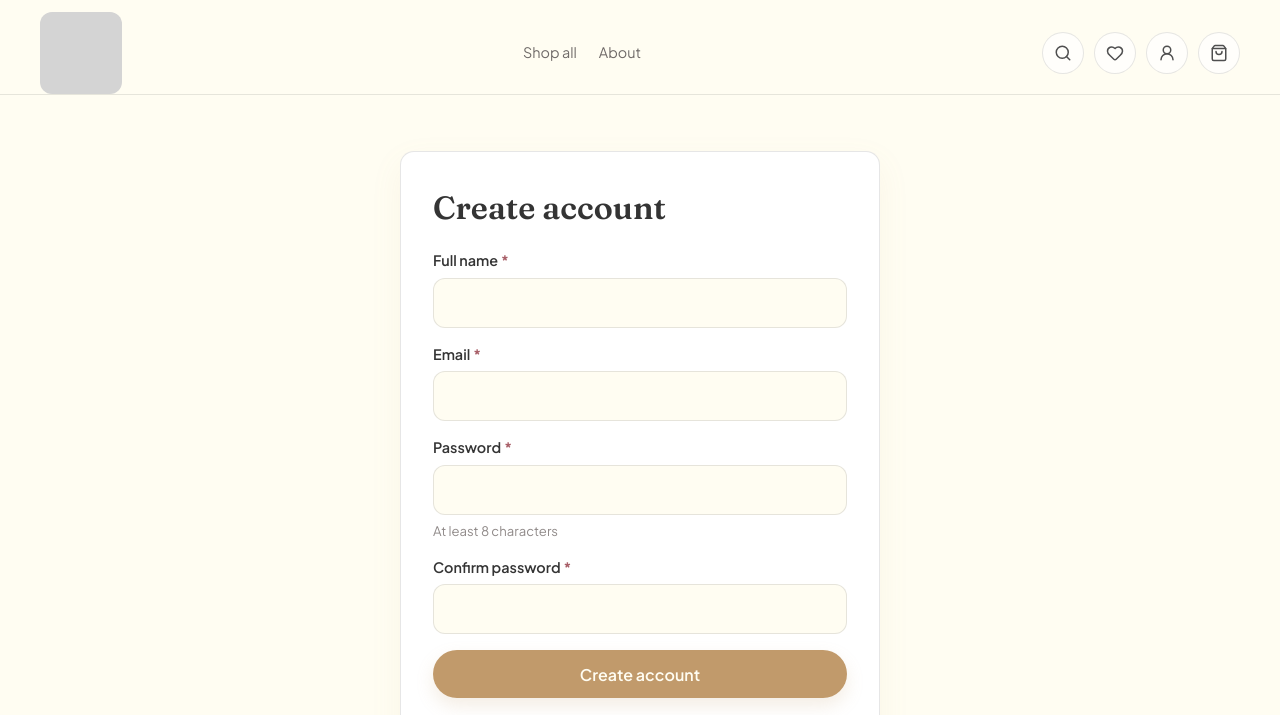
Test: registration and password reset › validates registration before submitting
Click the button "Create account". click: [640, 674]
box: x1=433 y1=650 x2=847 y2=698
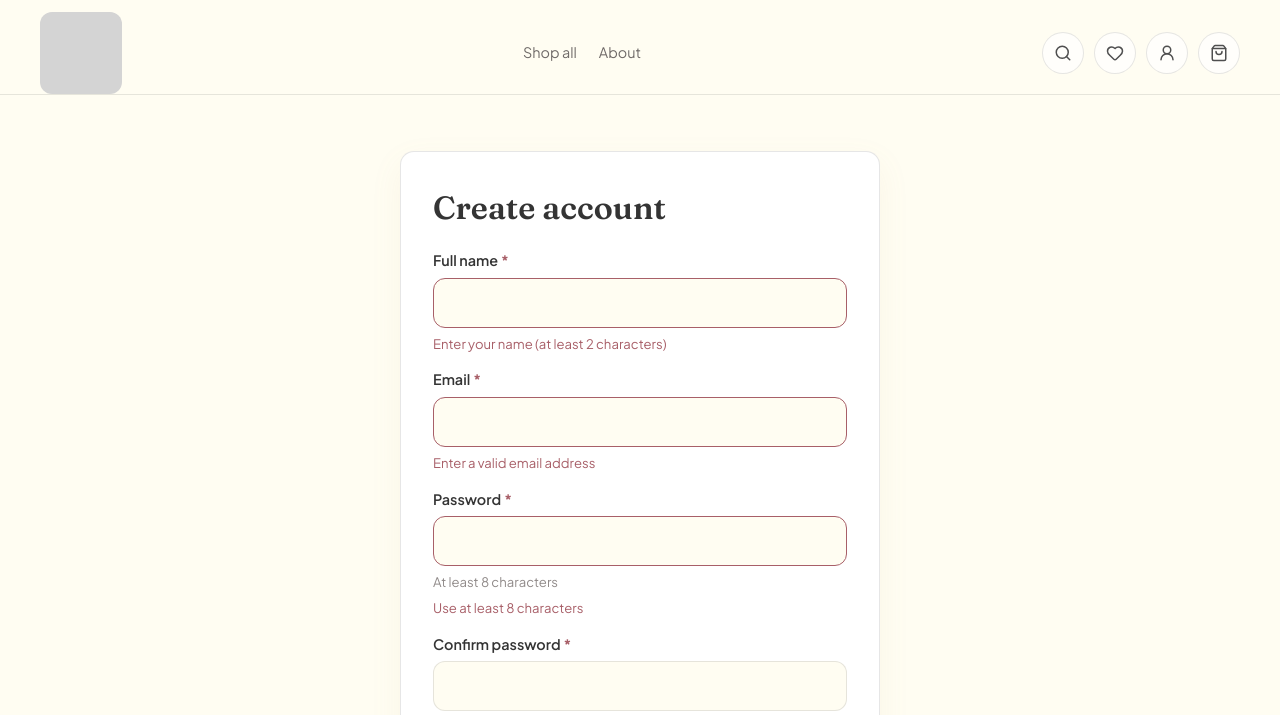
Now the text "Enter your name (at least 2 characters)" is shown, box x1=433 y1=335 x2=666 y2=352
Now the text "Use at least 8 characters" is shown, box x1=433 y1=599 x2=583 y2=616
